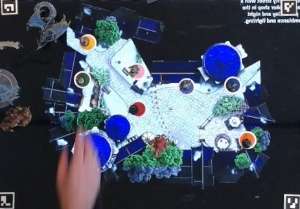blue: (223, 75, 244, 94)
green: (75, 69, 94, 88)
orange: (237, 130, 257, 152)
pink: (129, 62, 147, 79)
red: (127, 100, 149, 120)
violet: (177, 76, 196, 94)
yellow: (80, 32, 100, 51)
